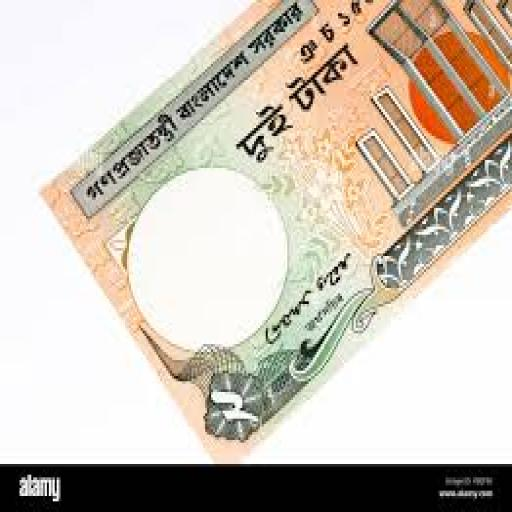2taka: (45, 0, 510, 459)
